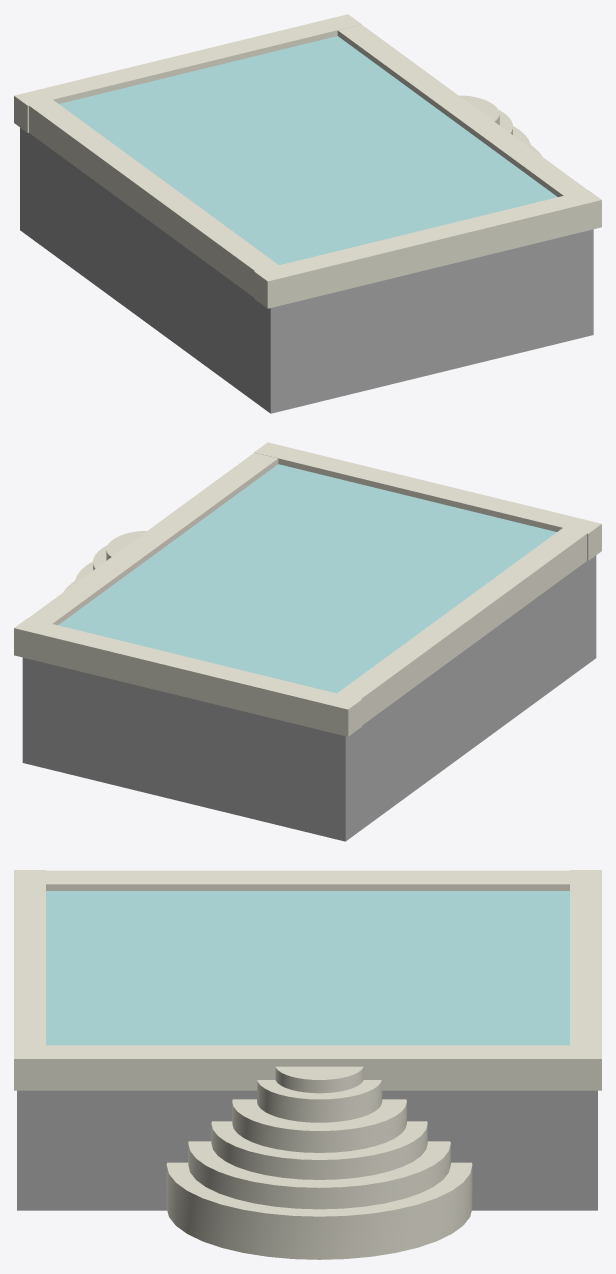
File: props5.fbx
3 views of the same model, one above another, from view 1: azimuth 30°, elevation 25°; view 2: azimuth 150°, elevation 25°; view 3: azimuth 270°, elevation 25° (orthographic). The views are drawn at different scales.
Visible parts, largest first — view 1: Cylinder; view 2: Cylinder; view 3: Cylinder.
Boxes of the visible parts, x1,y1,x2,y2 form: Cylinder: [14, 14, 601, 413]; Cylinder: [14, 442, 601, 841]; Cylinder: [14, 870, 601, 1259].
Bounding box in the file's own units: 508 × 154 × 529.
